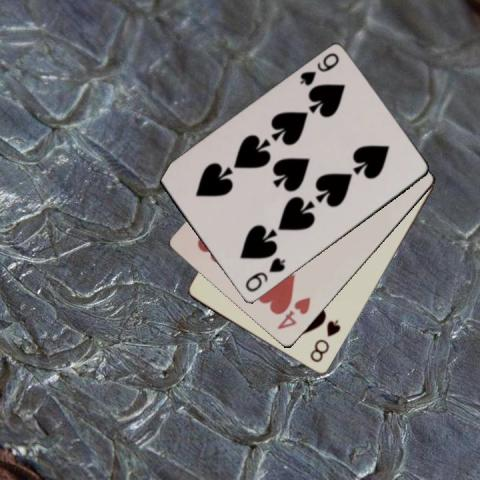4h: (273, 294, 313, 331)
8s: (307, 316, 342, 364)
9s: (242, 255, 287, 294), (297, 50, 340, 88)
